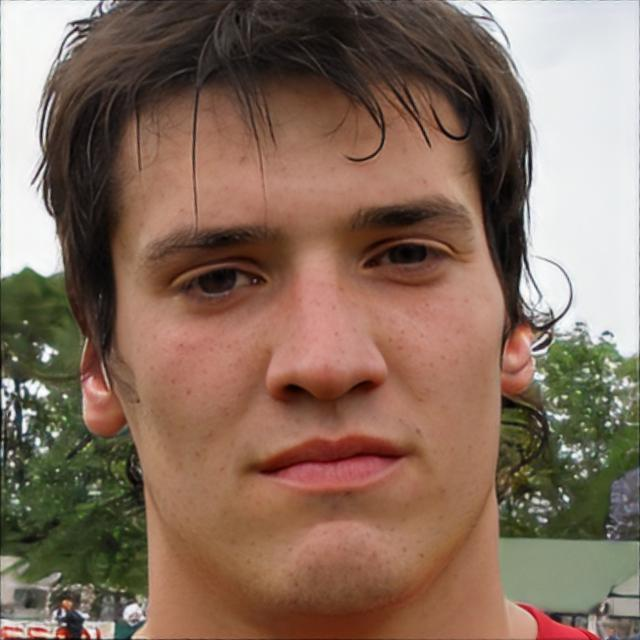content: (108, 63, 506, 619)
